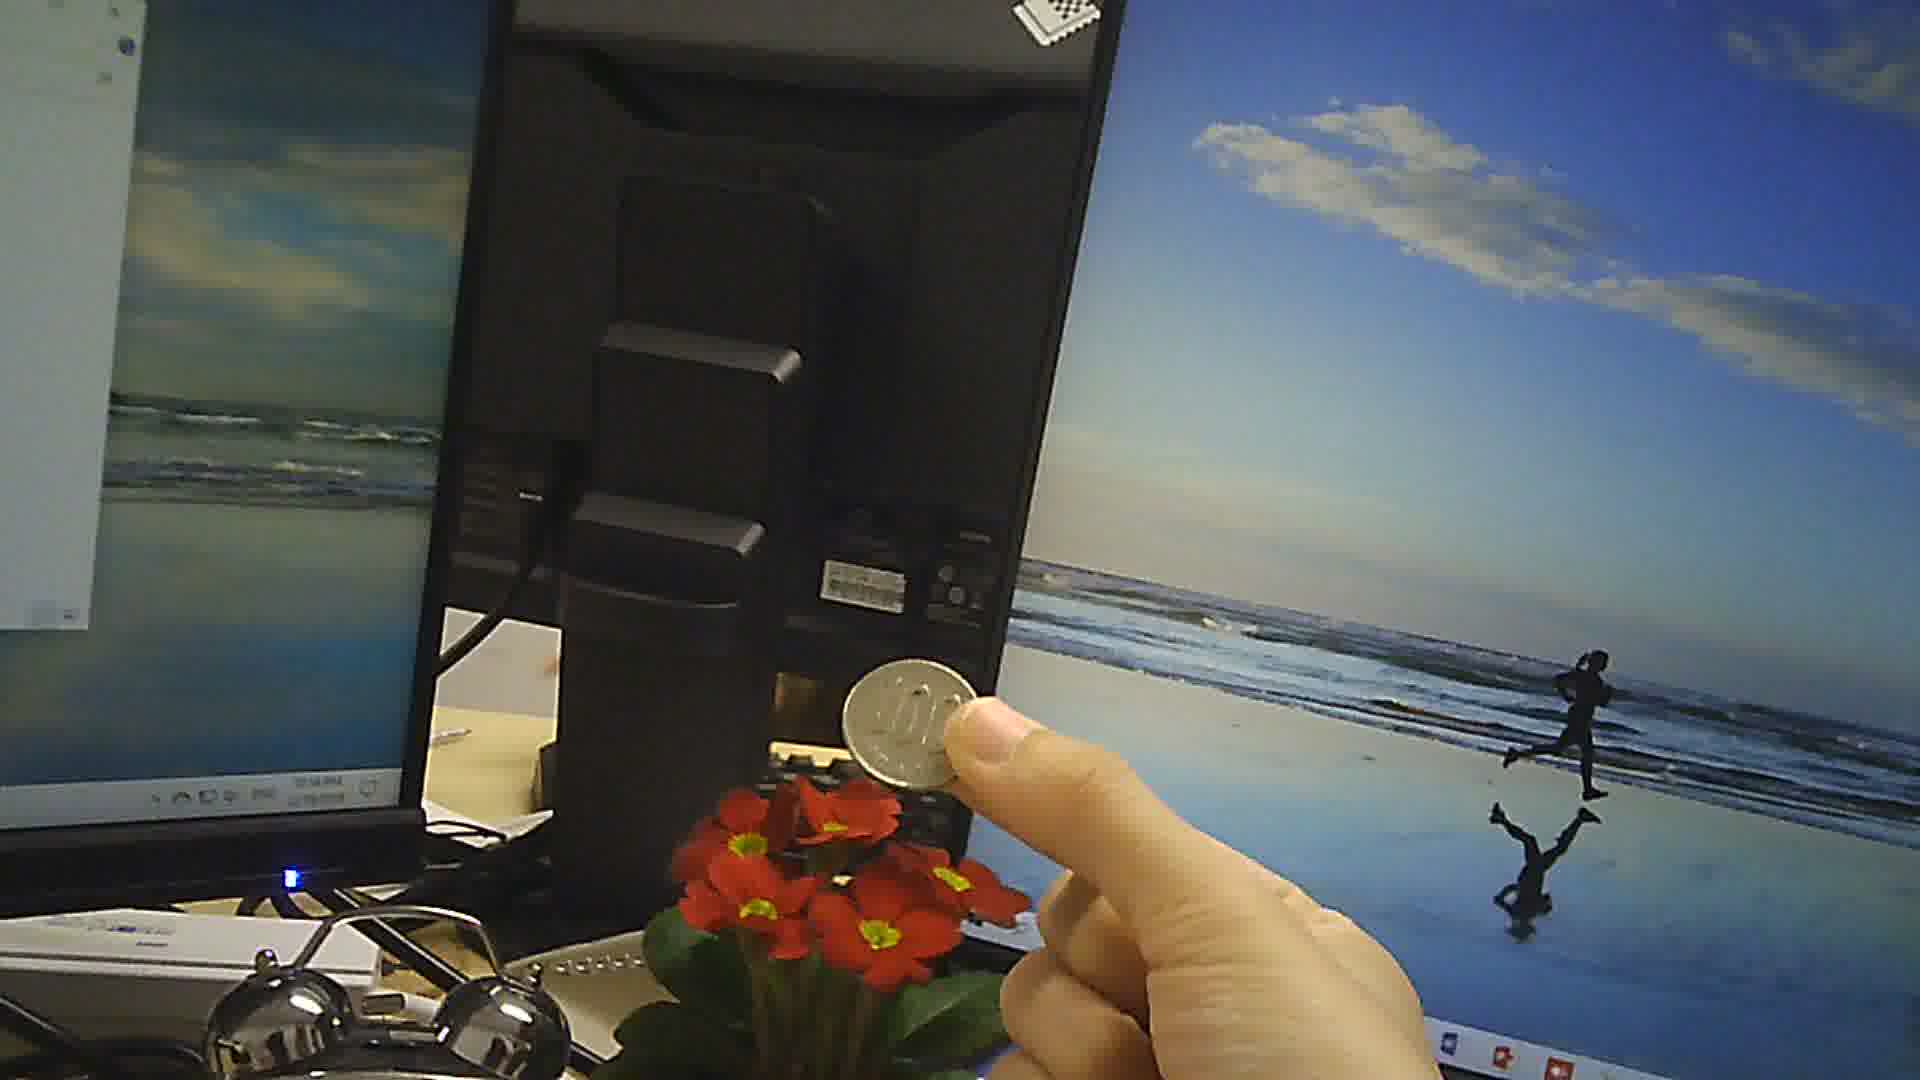100 Yen: (843, 649, 992, 793)
